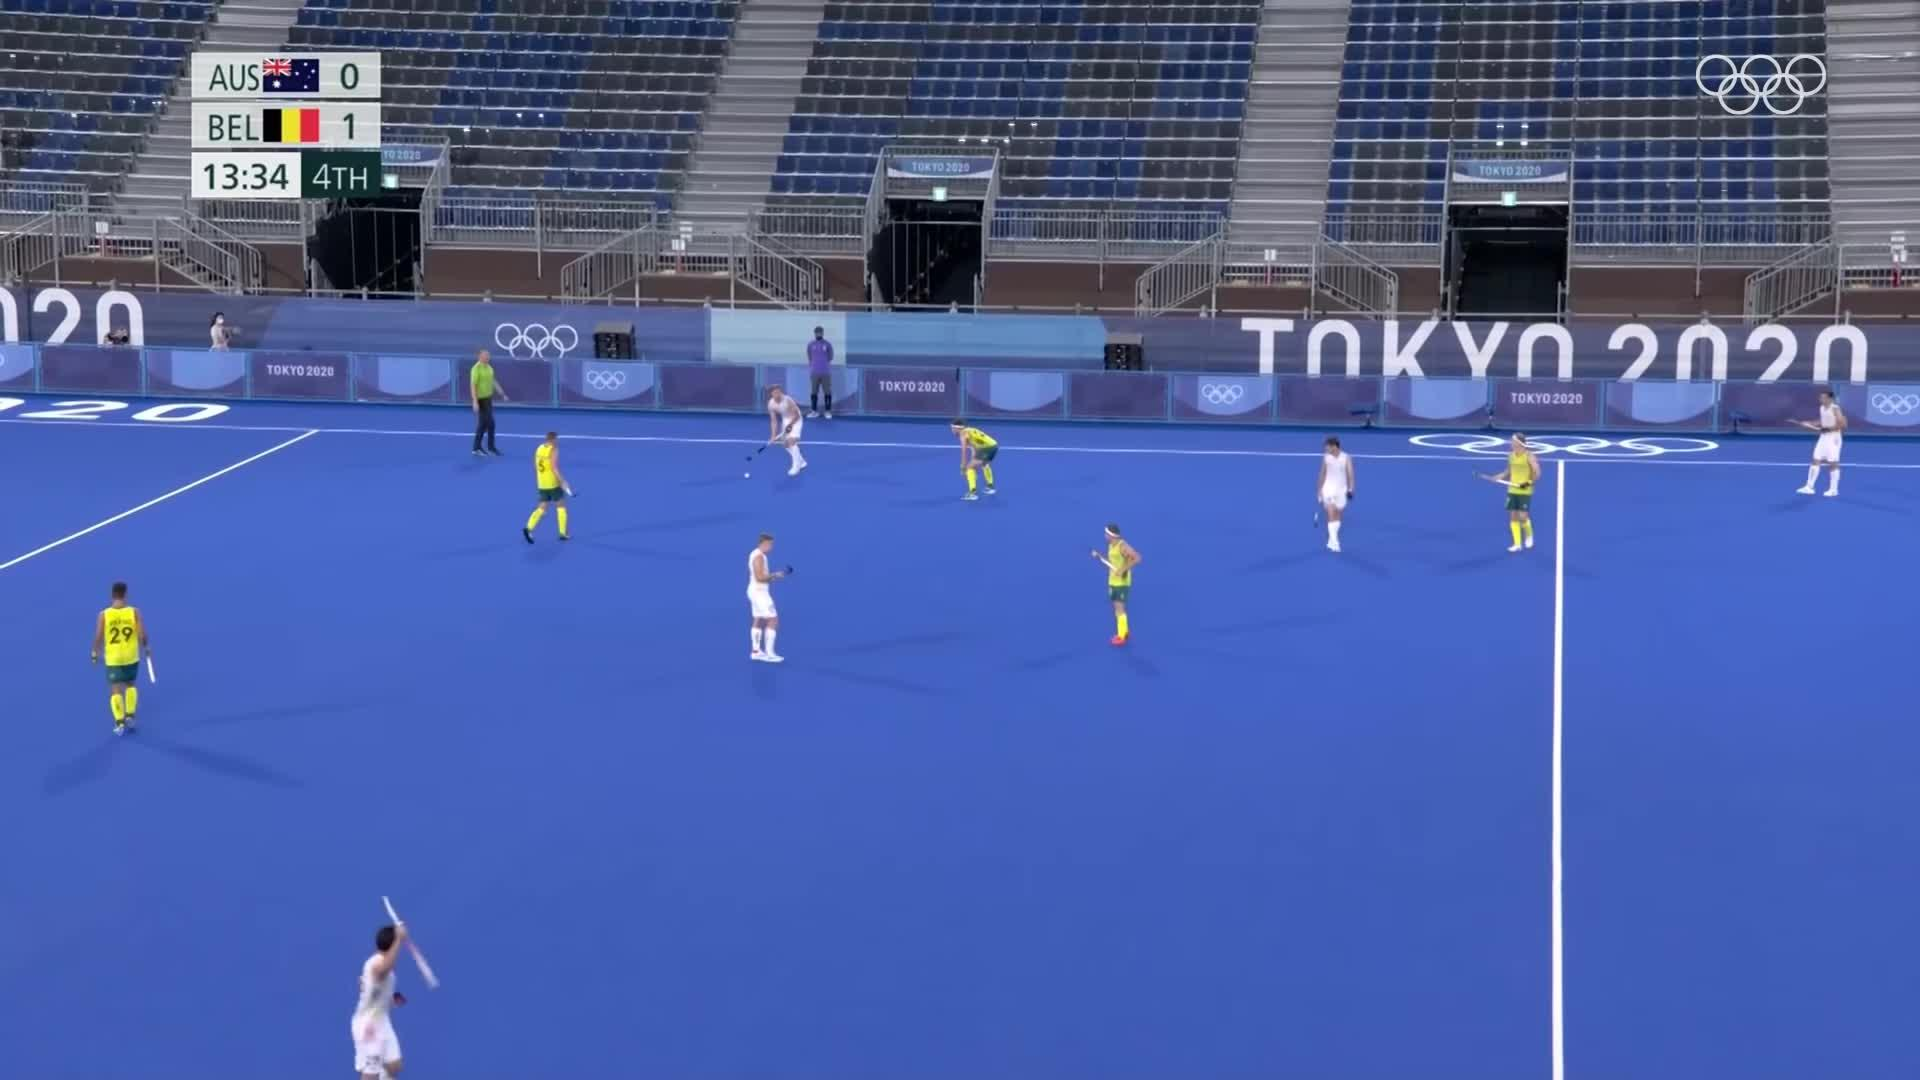ball: (738, 469, 756, 483)
